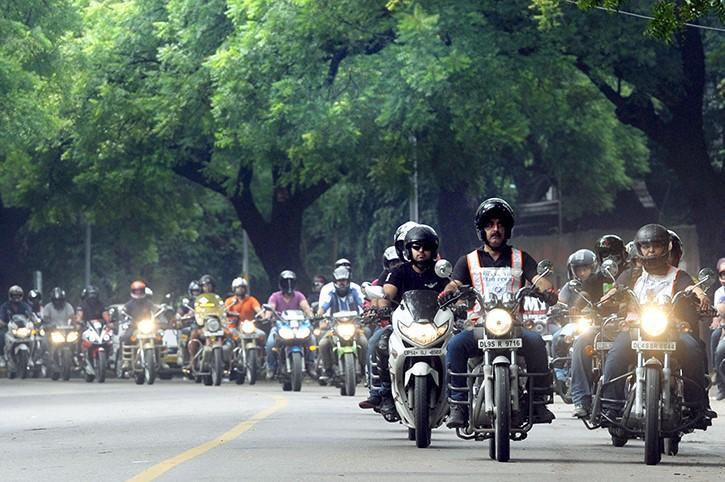MotorCycle: (598, 286, 716, 467), (438, 286, 556, 462), (270, 311, 314, 395), (81, 319, 117, 385)
